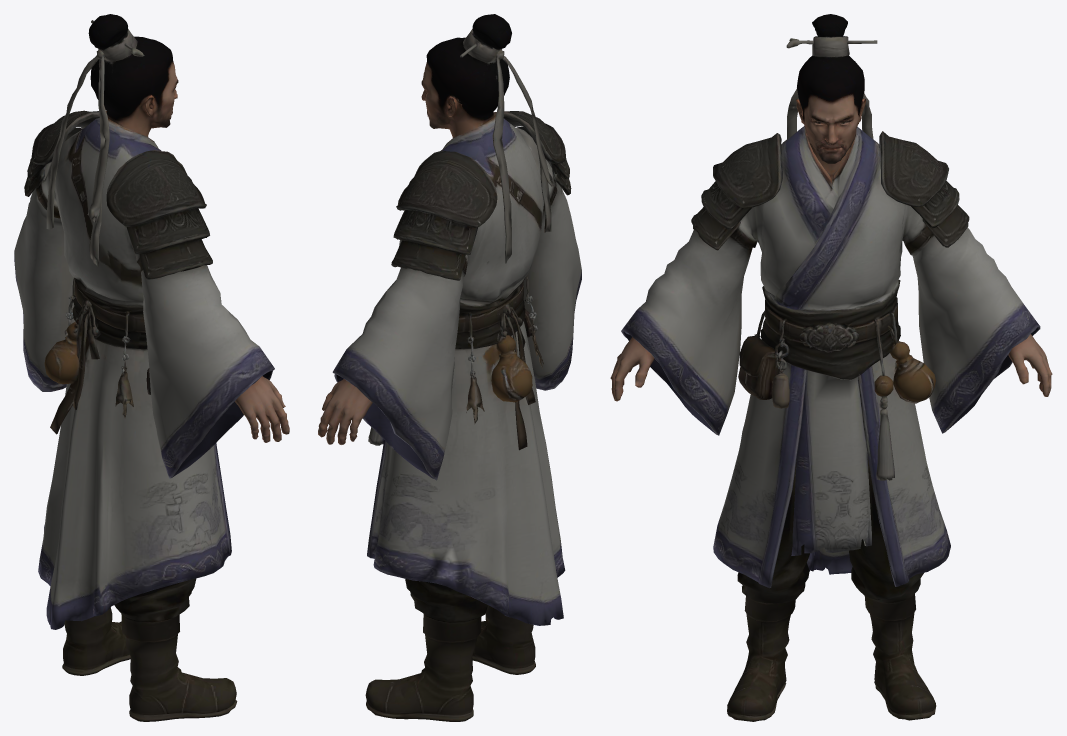
The model's file is 06f48889-ff10-4213-a88d-fae06bec9ded_model.glb.
3 views of the same model, side by side, from view 1: azimuth 30°, elevation 25°; view 2: azimuth 150°, elevation 25°; view 3: azimuth 270°, elevation 25° (orthographic).
Parts seen in each view (by area): view 1: tripo_node_06f48889-ff10-4213-a88d-fae06bec9ded; view 2: tripo_node_06f48889-ff10-4213-a88d-fae06bec9ded; view 3: tripo_node_06f48889-ff10-4213-a88d-fae06bec9ded.
Part boxes in pixels (<box>): tripo_node_06f48889-ff10-4213-a88d-fae06bec9ded: <box>14,14,289,721</box>; tripo_node_06f48889-ff10-4213-a88d-fae06bec9ded: <box>318,14,581,721</box>; tripo_node_06f48889-ff10-4213-a88d-fae06bec9ded: <box>610,14,1052,721</box>.
Size of the model in its own units: 0.4662 by 1.85 by 1.11.
Materials: 1 (1 with a texture image).
